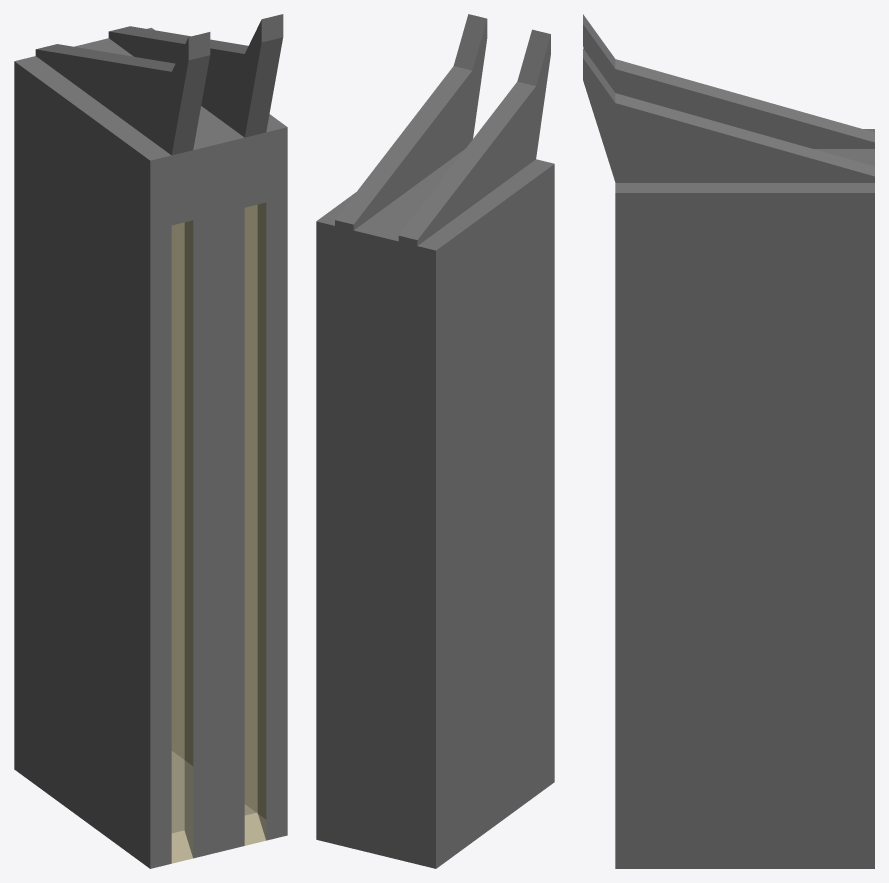
File: Two Wedge Building.fbx
The picture shows the model from 3 angles, left to right: view 1: azimuth 30°, elevation 25°; view 2: azimuth 150°, elevation 25°; view 3: azimuth 270°, elevation 25°; orthographic projection. The views are drawn at different scales.
Visible parts, largest first — view 1: Two_Wedge_Building; view 2: Two_Wedge_Building; view 3: Two_Wedge_Building.
Boxes of the visible parts, left/top/right/bottom form: Two_Wedge_Building: left=14, top=14, right=287, bottom=868; Two_Wedge_Building: left=316, top=14, right=554, bottom=868; Two_Wedge_Building: left=583, top=14, right=874, bottom=868.
Bounding box in the file's own units: 20.51 × 120 × 39.55.
